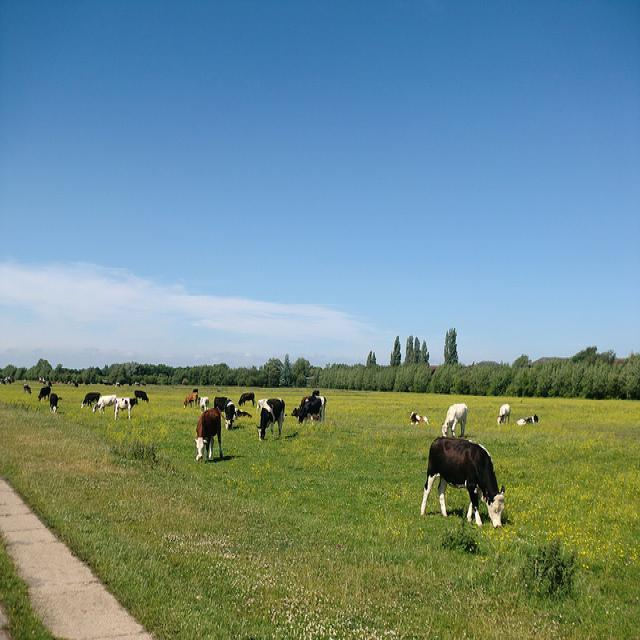cow: (14, 376, 541, 436), (419, 436, 504, 527), (193, 406, 223, 462), (256, 396, 283, 440), (441, 400, 466, 436), (212, 393, 234, 428), (298, 393, 323, 420), (296, 398, 320, 426), (112, 395, 137, 419), (91, 394, 115, 414), (79, 391, 99, 407), (182, 391, 197, 407), (197, 395, 207, 411), (256, 396, 267, 409)
